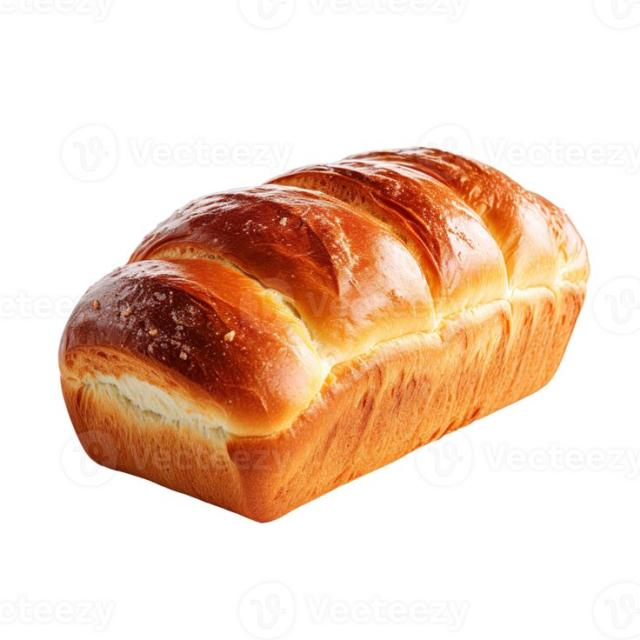bread: (59, 147, 589, 520)
